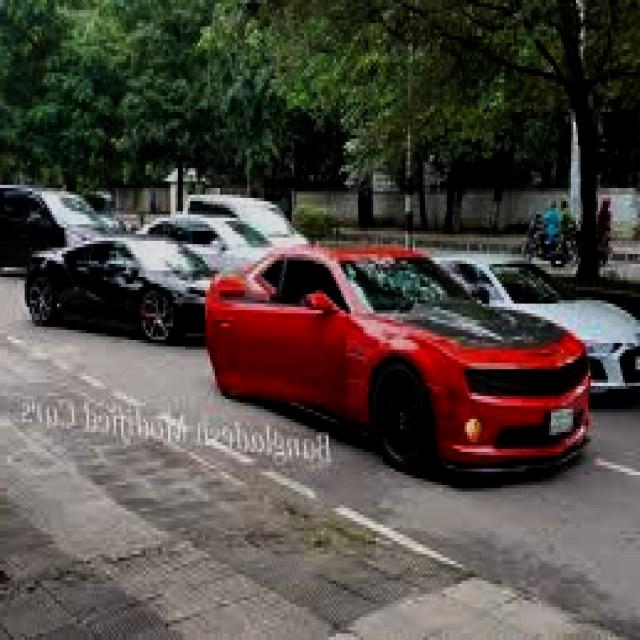black: (15, 230, 213, 346), (0, 177, 103, 277)
red: (212, 229, 588, 494)
white: (391, 244, 640, 392)
